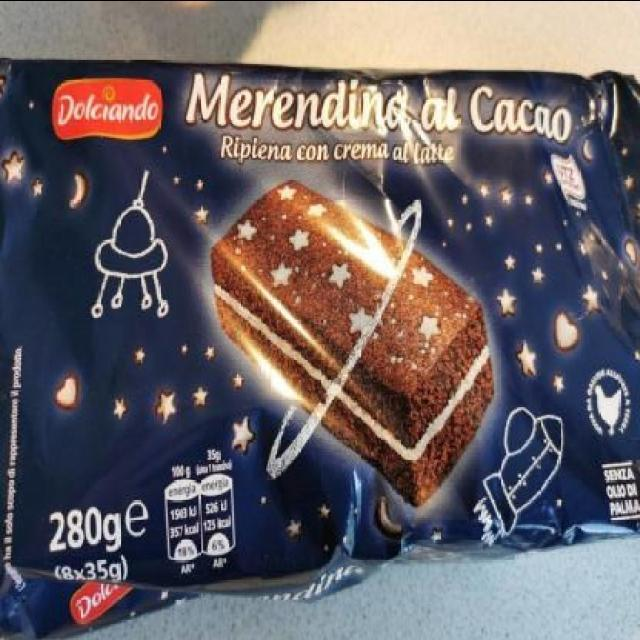Merendine: (0, 60, 640, 634)
Merendine packaged: (208, 165, 506, 498)
